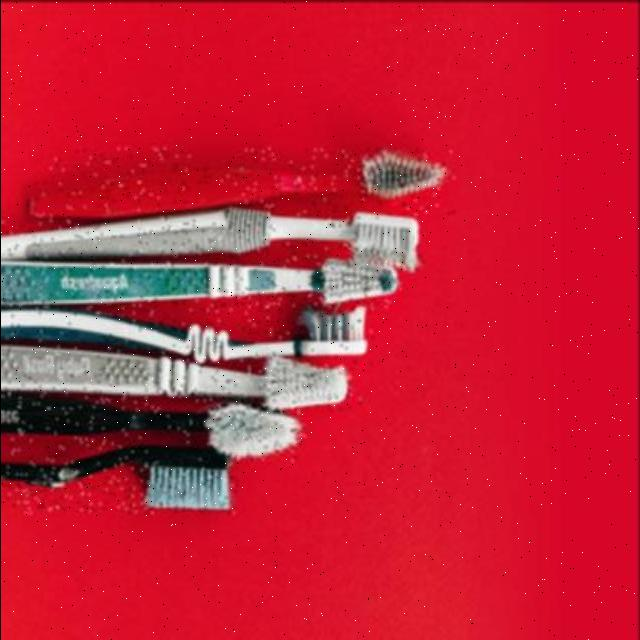toothbrush: (34, 147, 456, 217), (1, 343, 362, 409), (0, 218, 426, 272), (0, 251, 404, 307), (1, 305, 373, 363), (0, 394, 310, 460), (0, 438, 238, 512)
